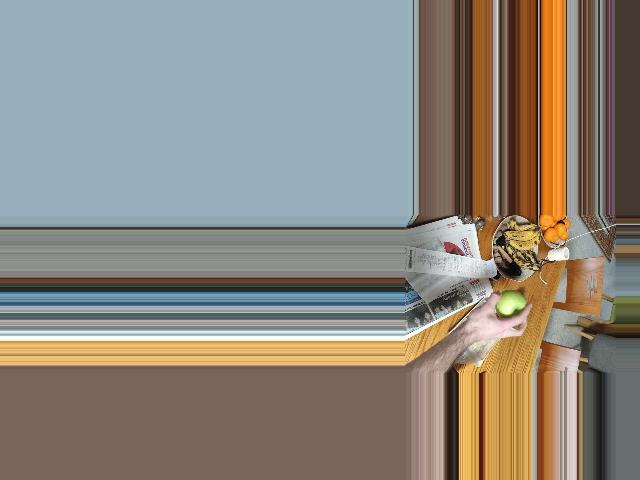apple: (495, 288, 530, 320)
